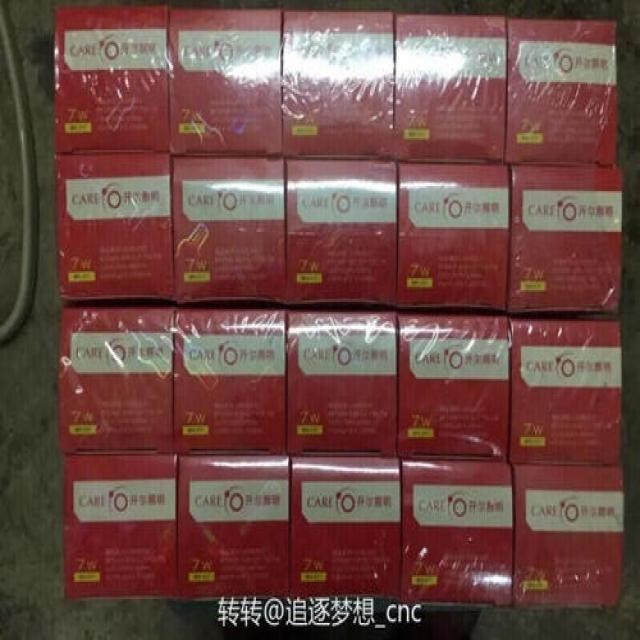box: (53, 153, 173, 301), (508, 314, 622, 468), (59, 302, 174, 452), (284, 305, 398, 456), (60, 453, 177, 599), (397, 310, 509, 462), (168, 7, 282, 156), (171, 157, 287, 303), (502, 17, 616, 165), (509, 164, 622, 313), (282, 9, 394, 159), (53, 7, 168, 153), (395, 13, 507, 162), (173, 304, 285, 453), (175, 454, 289, 599), (286, 157, 396, 307), (401, 458, 513, 605), (398, 161, 507, 312), (289, 456, 399, 599), (512, 465, 622, 605)
